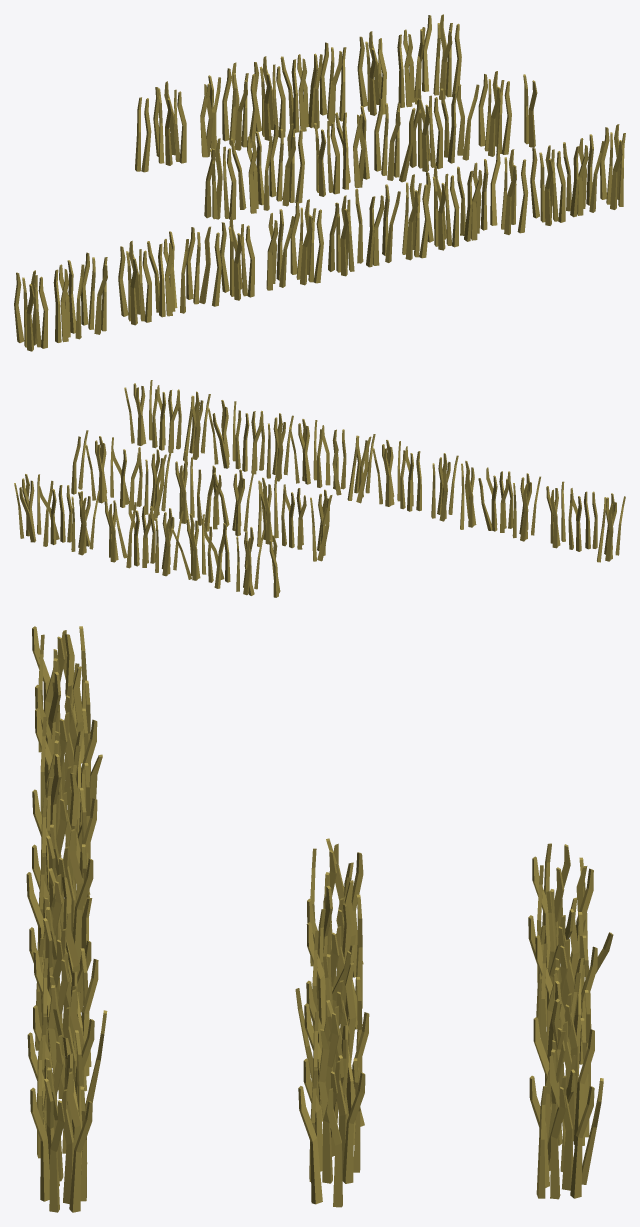
File: Farm_SecondAge_Level1_Wheat.glb
3 views of the same model, one above another, from view 1: azimuth 30°, elevation 25°; view 2: azimuth 150°, elevation 25°; view 3: azimuth 270°, elevation 25° (orthographic). The views are drawn at different scales.
Parts seen in each view (by area): view 1: Farm_SecondAge_Level1_Wheat; view 2: Farm_SecondAge_Level1_Wheat; view 3: Farm_SecondAge_Level1_Wheat.
Part boxes in pixels (x1=…): Farm_SecondAge_Level1_Wheat: x1=14, y1=14, x2=625, y2=351; Farm_SecondAge_Level1_Wheat: x1=14, y1=380, x2=625, y2=597; Farm_SecondAge_Level1_Wheat: x1=26, y1=626, x2=613, y2=1212.
Bounding box in the file's own units: 1.48 × 0.186 × 0.7686.
